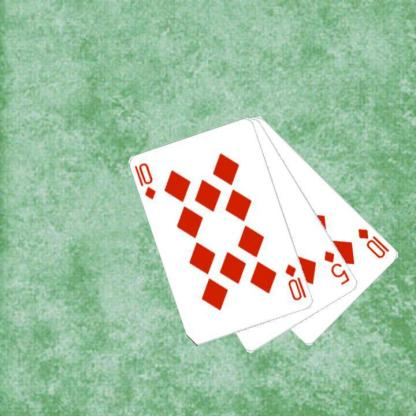10D: (355, 226, 391, 259), (282, 262, 308, 302), (132, 160, 157, 201)
5D: (322, 248, 351, 286)
